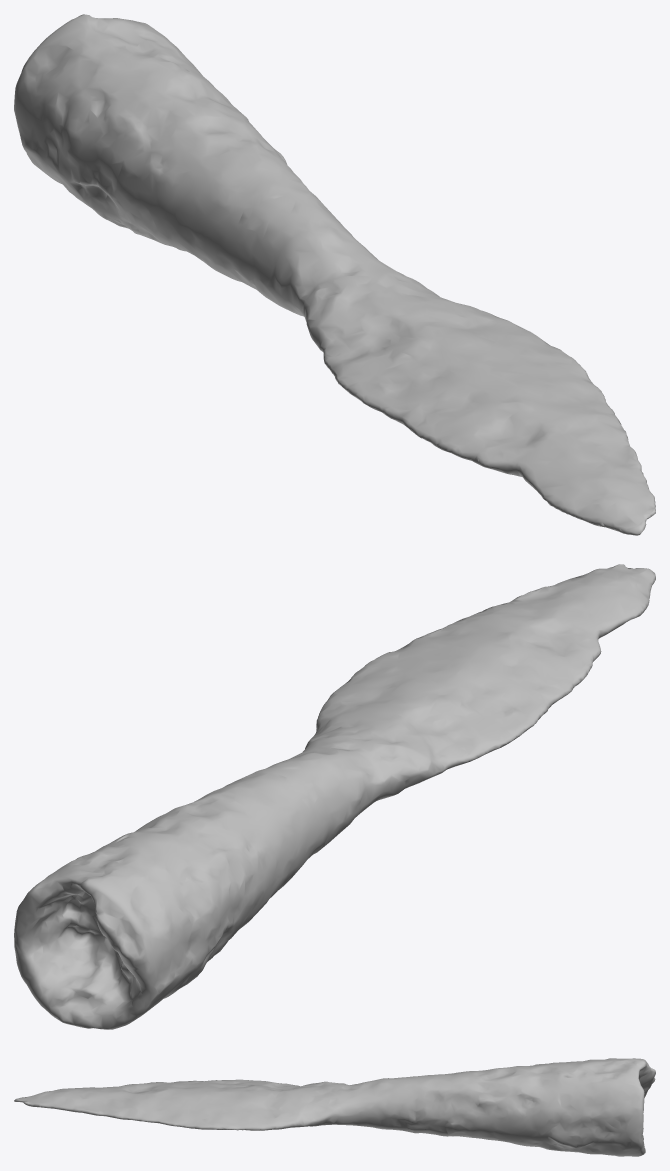
The picture shows the model from 3 angles, top to bottom: view 1: azimuth 30°, elevation 25°; view 2: azimuth 150°, elevation 25°; view 3: azimuth 270°, elevation 25°; orthographic projection. The views are drawn at different scales.
Visible parts, largest first — view 1: object; view 2: object; view 3: object.
Boxes of the visible parts, bbox=[...] form: object: bbox=[14, 14, 655, 535]; object: bbox=[14, 564, 655, 1029]; object: bbox=[14, 1058, 655, 1156].
Size of the model in its own units: 25.59 by 20.76 by 135.
1 material, 1 textured.
